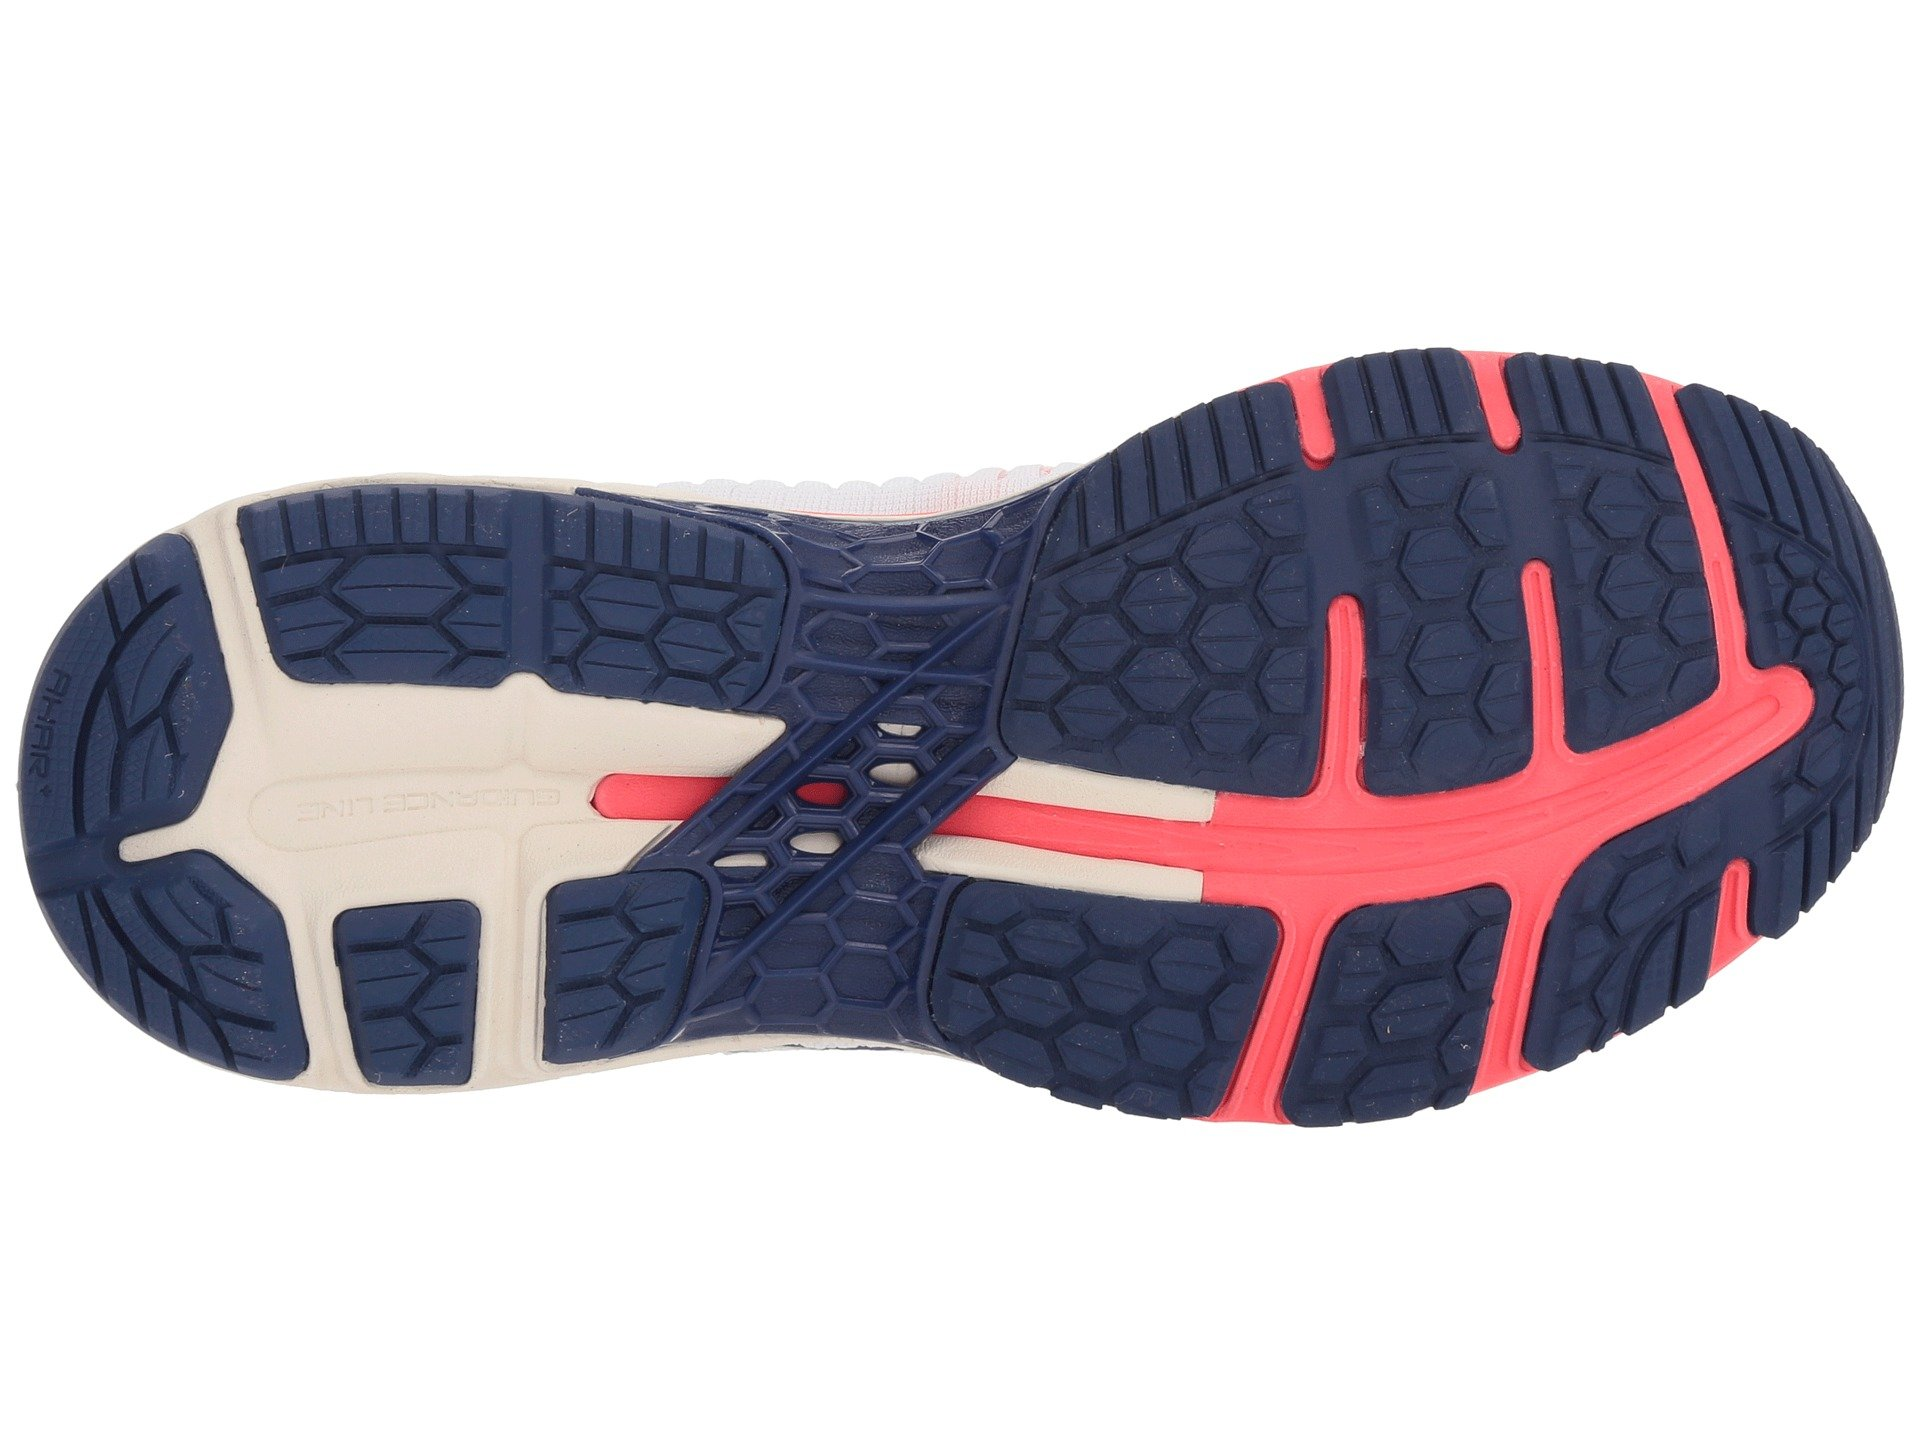exclude: (352, 57, 1110, 186), (259, 694, 965, 802)
line: (1368, 126, 1677, 448), (714, 351, 980, 569), (1268, 542, 1500, 787), (1167, 398, 1398, 613), (1048, 39, 1296, 222), (1438, 381, 1634, 582), (957, 414, 1163, 591), (1661, 290, 1826, 473), (1702, 79, 1804, 194), (1350, 14, 1450, 104)
polygon: (992, 100, 1711, 461), (1368, 126, 1677, 448), (924, 545, 1271, 788), (246, 219, 779, 374), (714, 351, 980, 569), (1268, 542, 1500, 787), (1076, 224, 1305, 439), (311, 558, 496, 746), (317, 198, 460, 349)
quad: (1368, 126, 1677, 448), (714, 351, 980, 569), (1268, 542, 1500, 787), (1076, 224, 1305, 439), (1048, 39, 1296, 222), (317, 198, 460, 349)
ribbon: (144, 296, 467, 582), (423, 318, 757, 587)
text: (280, 445, 574, 502), (11, 321, 89, 461), (286, 436, 373, 514), (419, 436, 485, 499), (490, 436, 556, 498), (11, 389, 71, 443)
